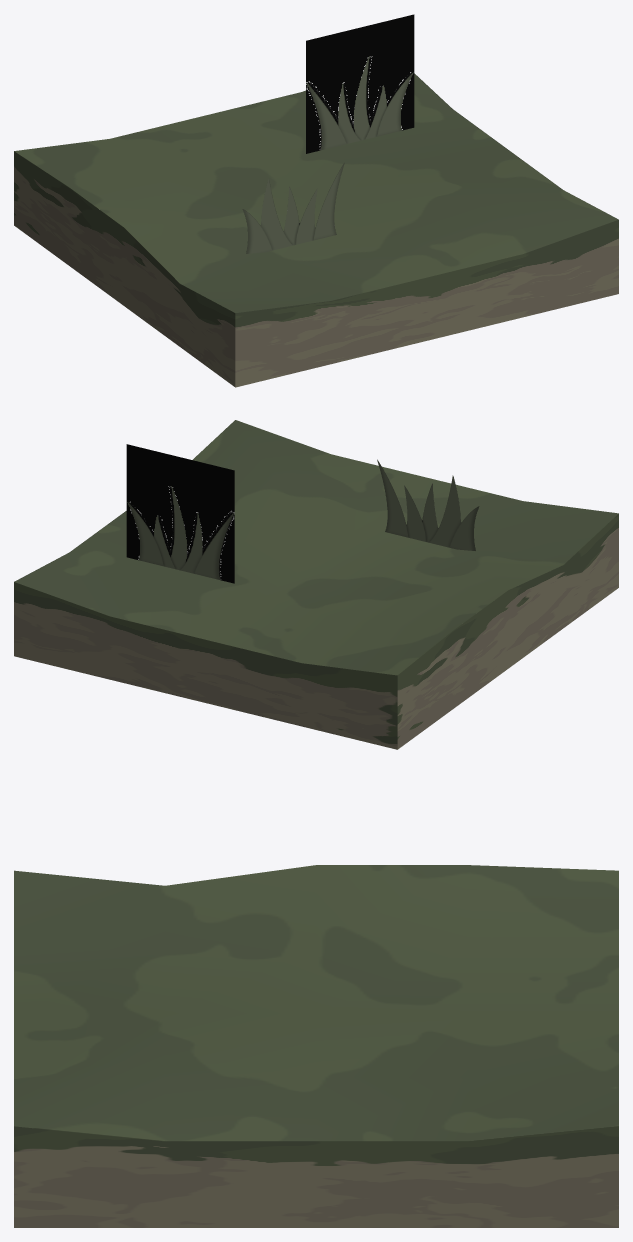
Rendered from GrassTile1.fbx.
3 views of the same model, one above another, from view 1: azimuth 30°, elevation 25°; view 2: azimuth 150°, elevation 25°; view 3: azimuth 270°, elevation 25° (orthographic). The views are drawn at different scales.
Parts seen in each view (by area): view 1: GrassTile1, Grass1, Grass1.001; view 2: GrassTile1, Grass1, Grass1.001; view 3: GrassTile1.
Part boxes in pixels (x1,y1,x2,y2): GrassTile1: (14,73,618,387); Grass1: (306,14,414,153); Grass1.001: (242,162,344,253); GrassTile1: (14,420,618,749); Grass1: (126,444,234,583); Grass1.001: (377,459,479,550); GrassTile1: (14,865,618,1227).
Bounding box in the file's own units: 200 × 87.97 × 200.
Materials: 3 (3 with a texture image).
